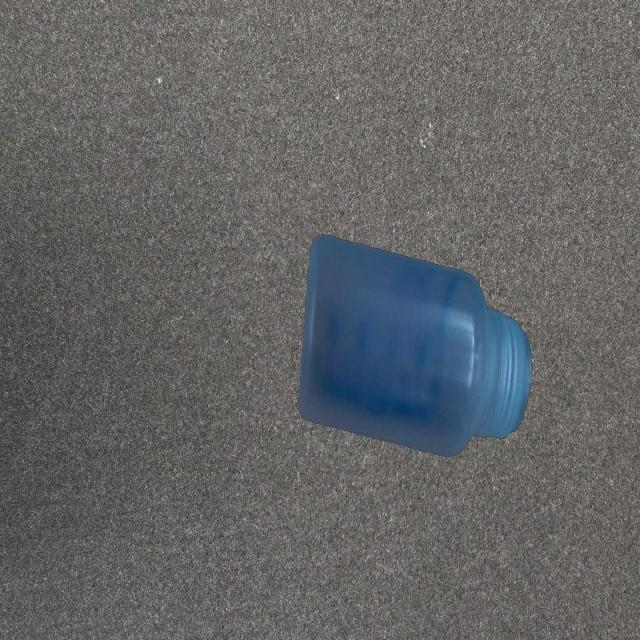bottle: (296, 231, 534, 462)
